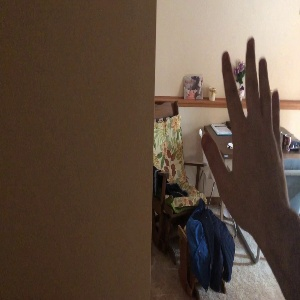hand: (201, 39, 288, 209)
